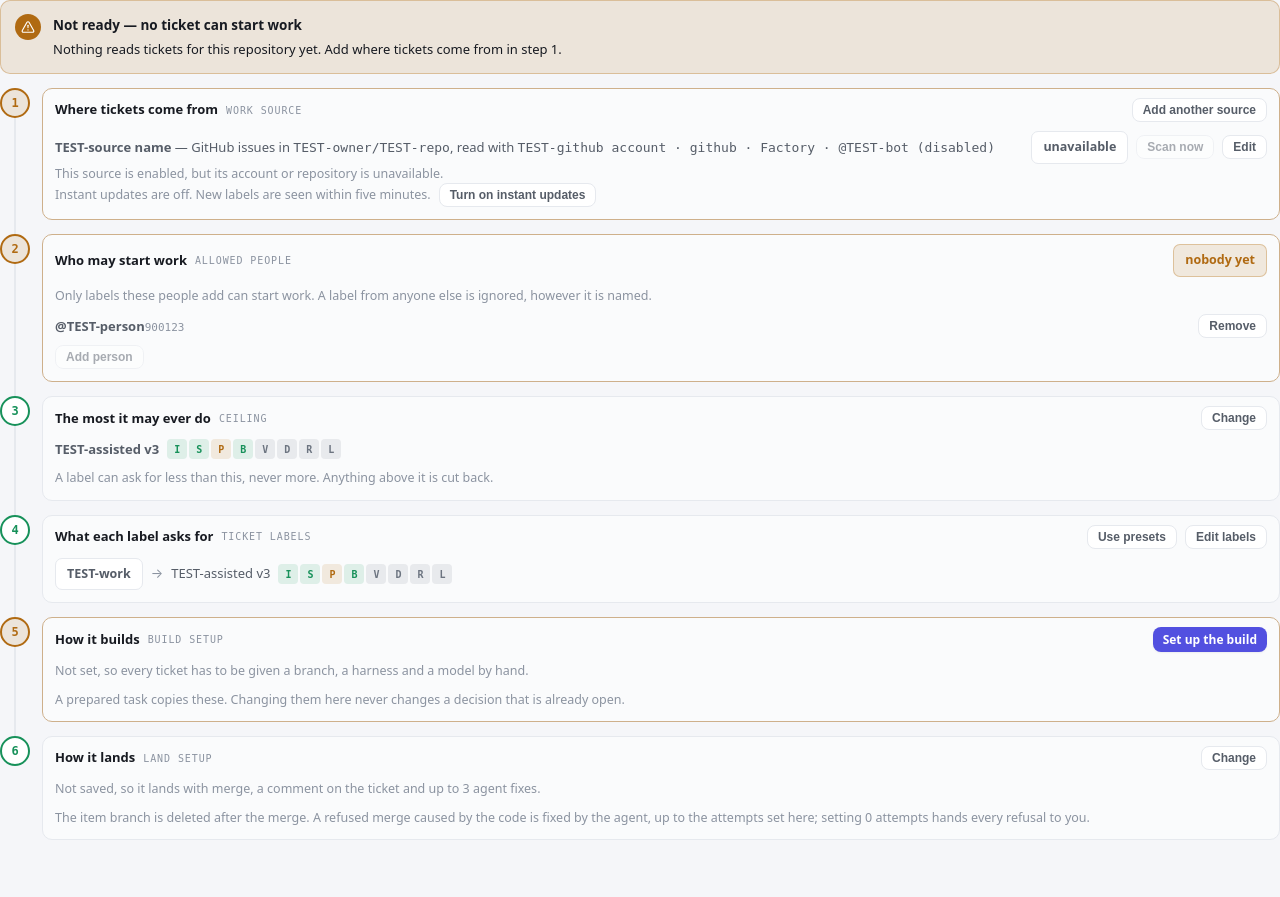
Test: preserves the configured enabled flag when the account is unavailable
expect the button with aria-label "Scan TEST-source name now" is disabled: met, box [1136, 135, 1214, 159]
Click the button with aria-label "Edit TEST-source name".
click(1245, 147)  # box [1222, 135, 1267, 159]
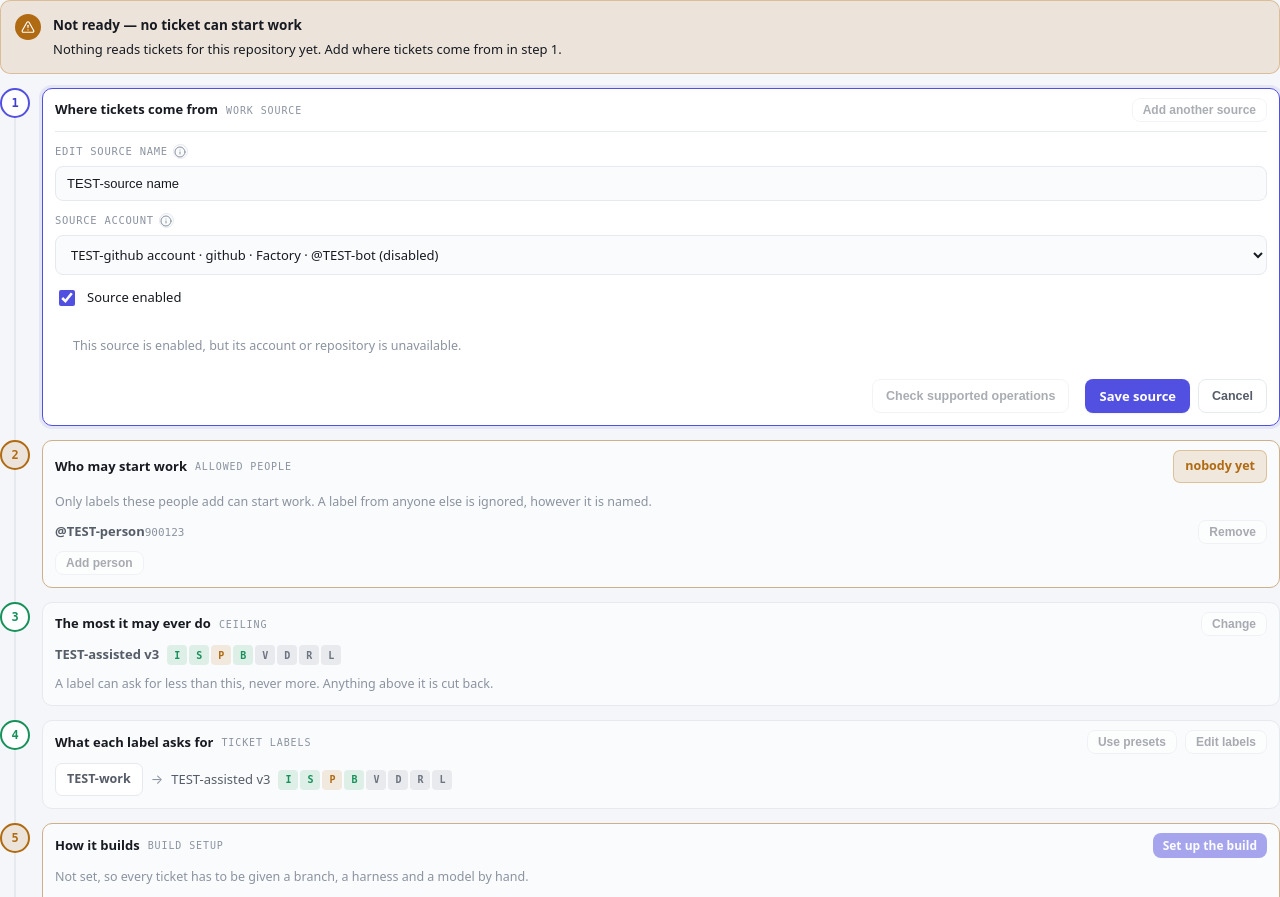
expect the text "enabled, but its account or repository is unavailable" is shown: met, box [73, 336, 461, 354]
expect the checkbox labelled "Source enabled" is checked: met, box [59, 290, 75, 306]
